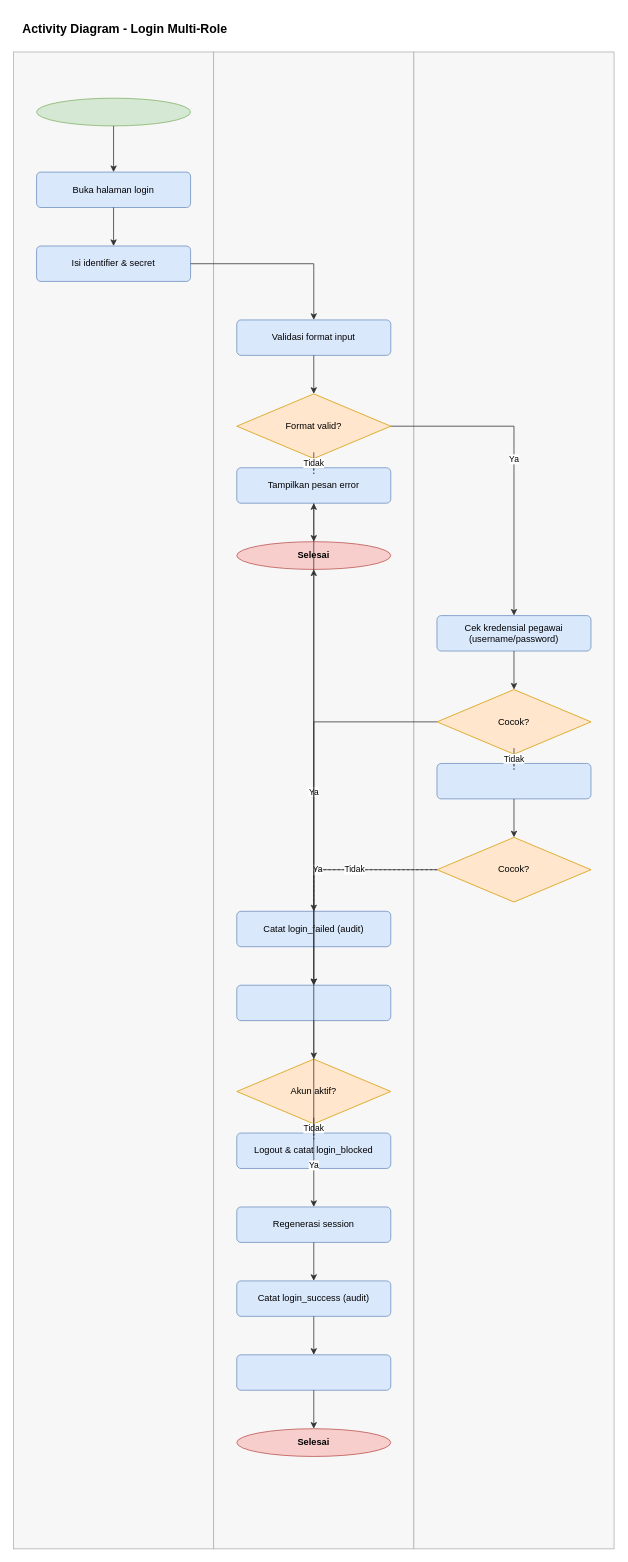
Image size: 628x1562. Some labels were removed from this diagram. Here are the shapes that lost their labels. From the top down, the box of each, then its label:
(36, 97, 191, 126): Mulai
(13, 51, 214, 1549): Pengguna
(213, 51, 414, 1549): Sistem
(436, 763, 591, 799): Cek kredensial nasabah (NIS/PIN)
(413, 51, 614, 1549): Database
(236, 984, 391, 1021): Periksa status akun
(236, 1354, 391, 1390): Redirect dashboard sesuai role
